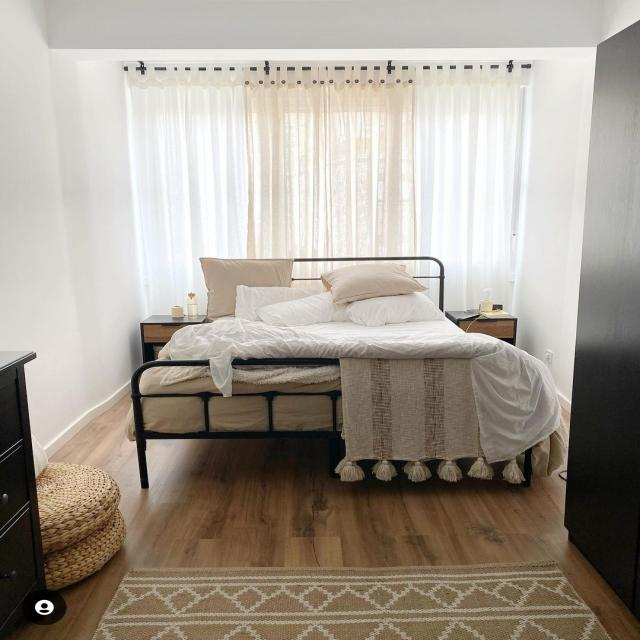bed: (129, 246, 550, 492)
